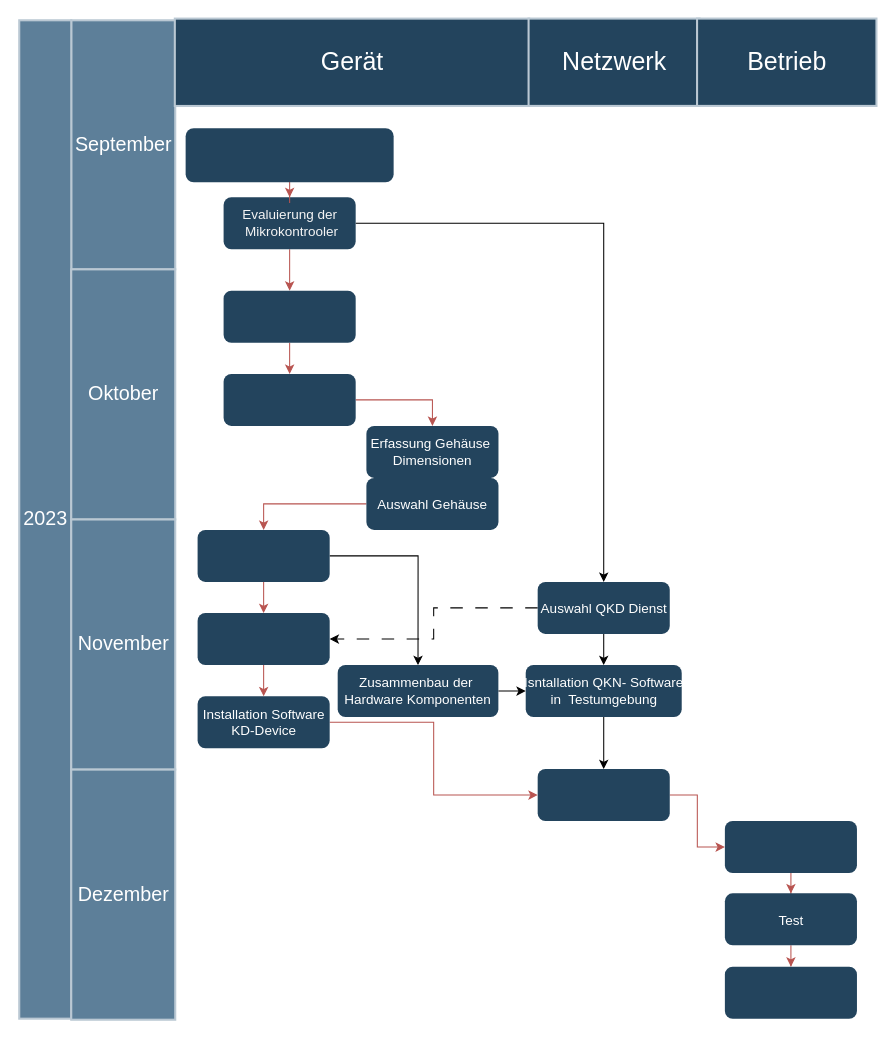
The diagram is 895 pixels wide and 1039 high, and some of its shapes have lost their labels. Here are the shapes that lost their labels. From the top down, the centre of each, then its label:
(x=289, y=155): Erfassung der Anforderungen Hard- und Software
(x=289, y=316): Auswahl des Mikrokontroller
(x=289, y=399): Auswahl des Kameramoduls
(x=263, y=555): Einbau des Kamera Moduls
(x=263, y=639): Entwicklung Software QKD-Device
(x=603, y=795): Integration der Schnittstellen
(x=790, y=847): Inbetriebnahme
(x=790, y=992): Dokumentation
